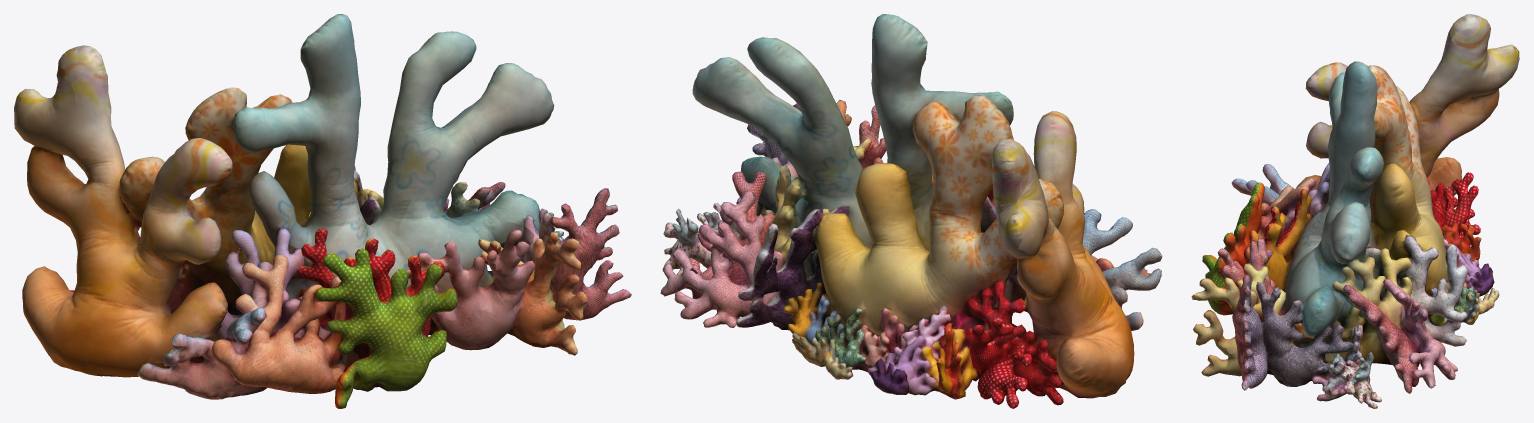
Rendered from coral1objcleanedup.glb.
3 renders of one model, left to right at view 1: azimuth 30°, elevation 25°; view 2: azimuth 150°, elevation 25°; view 3: azimuth 270°, elevation 25°, orthographic. The views are drawn at different scales.
Visible parts, largest first — view 1: textured; view 2: textured; view 3: textured.
Boxes of the visible parts, bbox=[...] form: textured: bbox=[14, 14, 631, 408]; textured: bbox=[660, 14, 1162, 408]; textured: bbox=[1191, 14, 1519, 408].
Size of the model in its own units: 2.06 by 1.22 by 1.4.
Materials: 1 (1 with a texture image).
